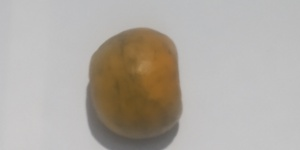BAD: (88, 27, 183, 140)
